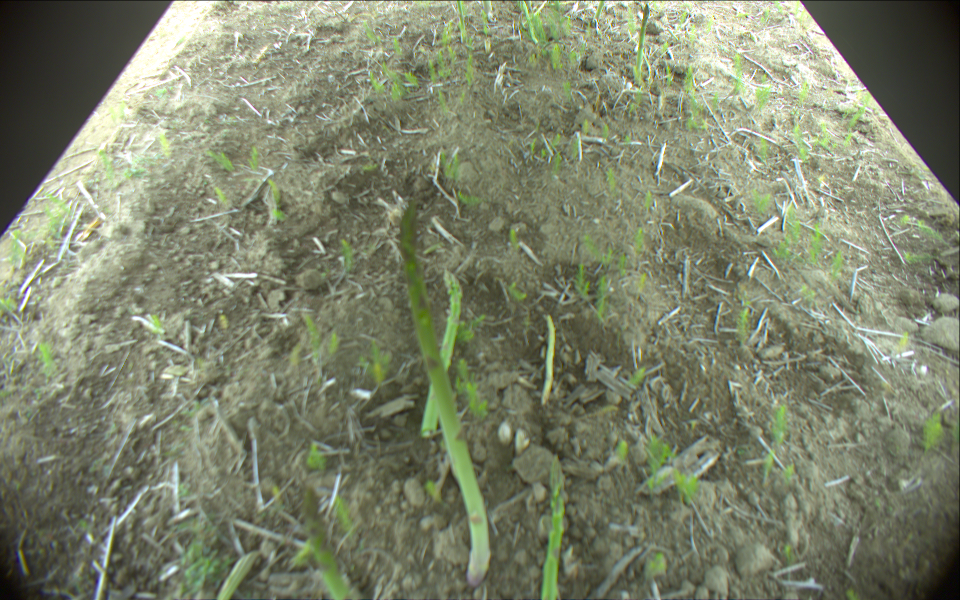aspa: (398, 200, 492, 587), (418, 269, 464, 438), (302, 488, 357, 600), (540, 453, 567, 600), (213, 550, 262, 600), (542, 314, 557, 401), (636, 5, 650, 80), (523, 1, 539, 45), (523, 1, 547, 26), (458, 1, 467, 42), (594, 1, 605, 22)
